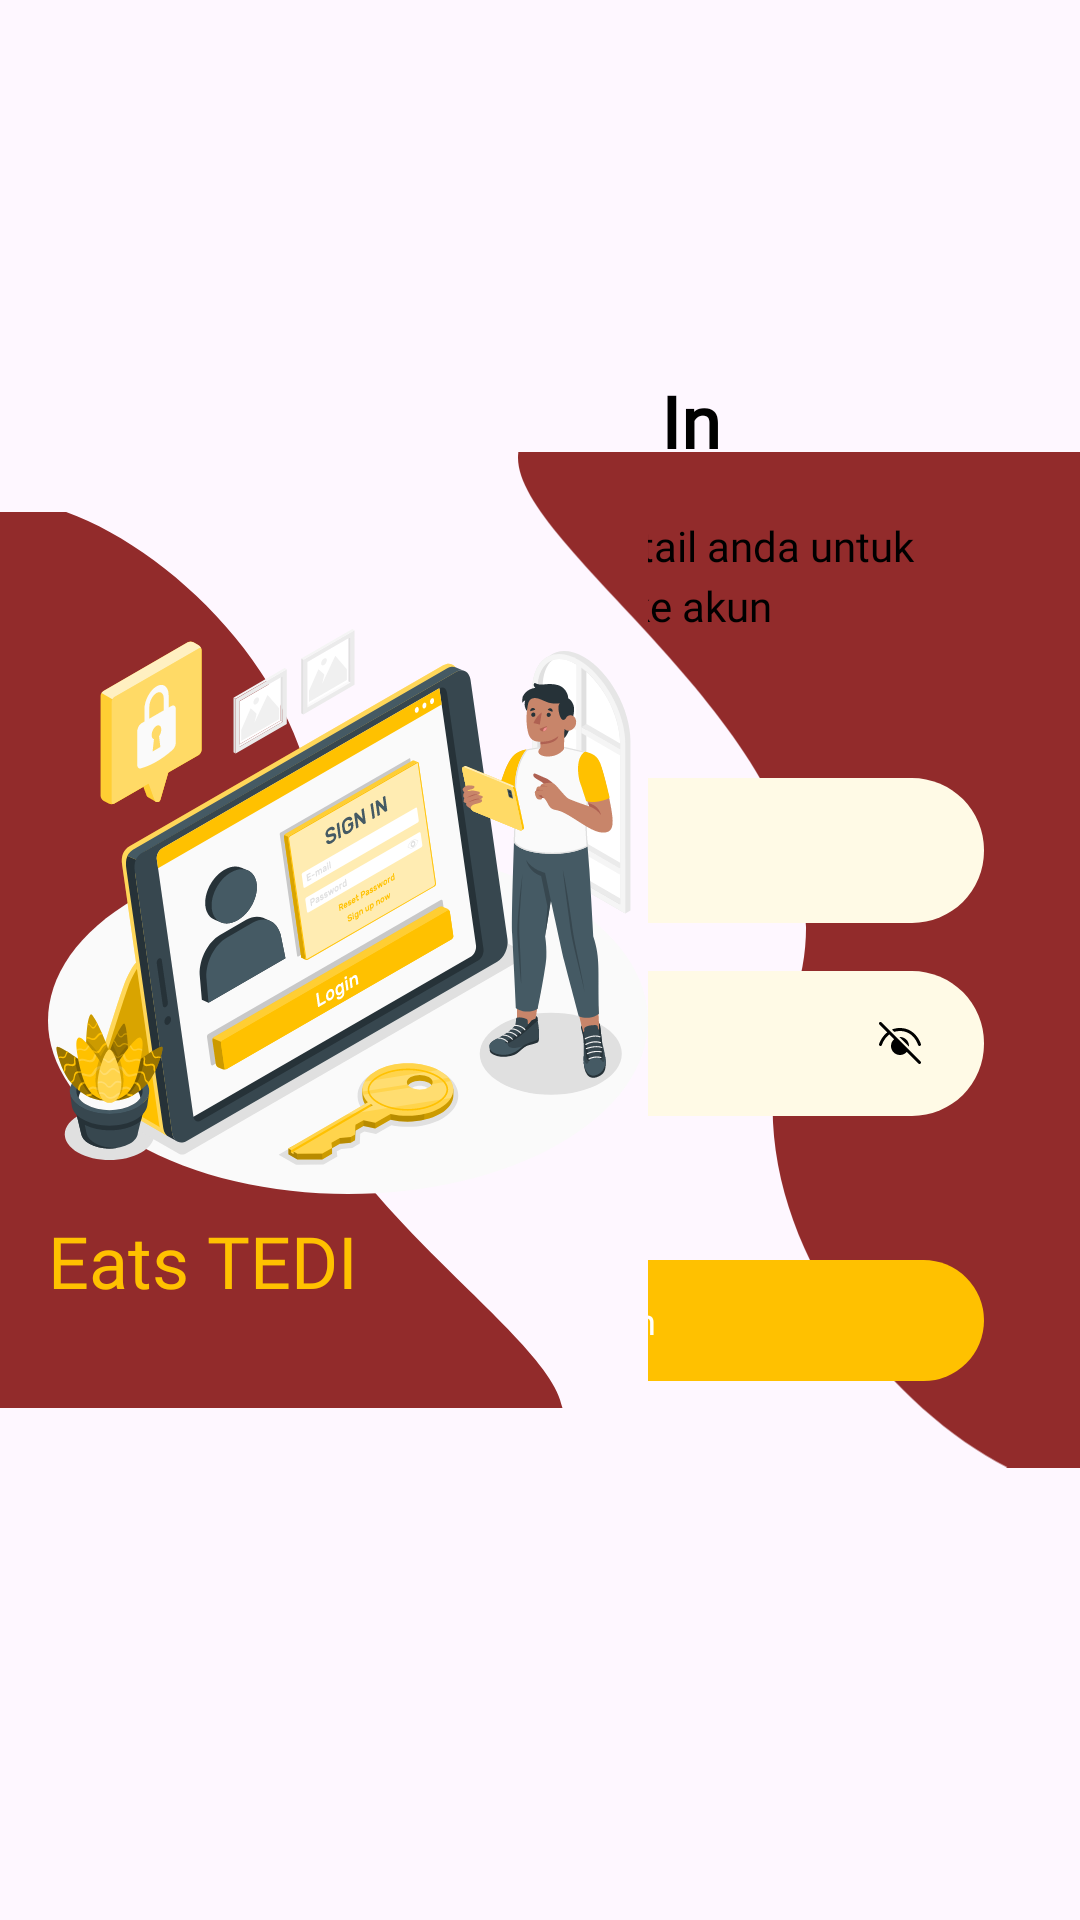

Icon bounding boxes for this 1080 x 1920 phone screenshot, format (x1, y1, x2, y2):
eye closed: (879, 1022, 921, 1064)
